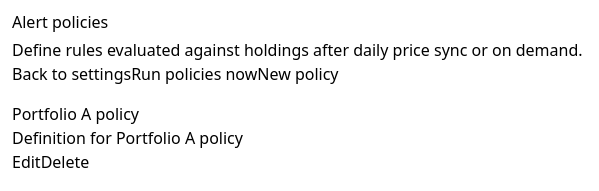
Test: alert policy list read recovery › clears prior-scope presentation and ignores late old-scope completion
Expected: the text "Portfolio A policy" is shown, [12,103,139,125]
Step 1. Click the button "Edit" → (26, 162), box [12,150,41,174]
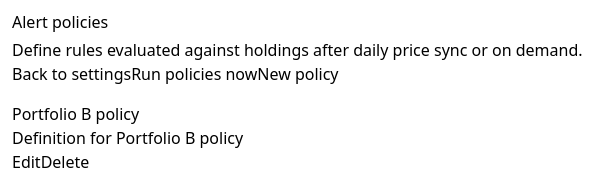
Expected: the text "Portfolio B policy" is shown, [12,103,139,125]
Expected: the text "Portfolio A policy" is gone
